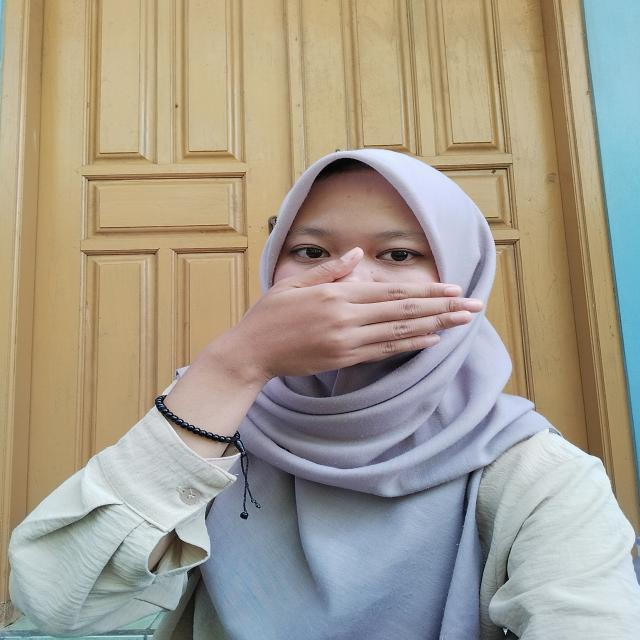buruk: (205, 242, 487, 379)
